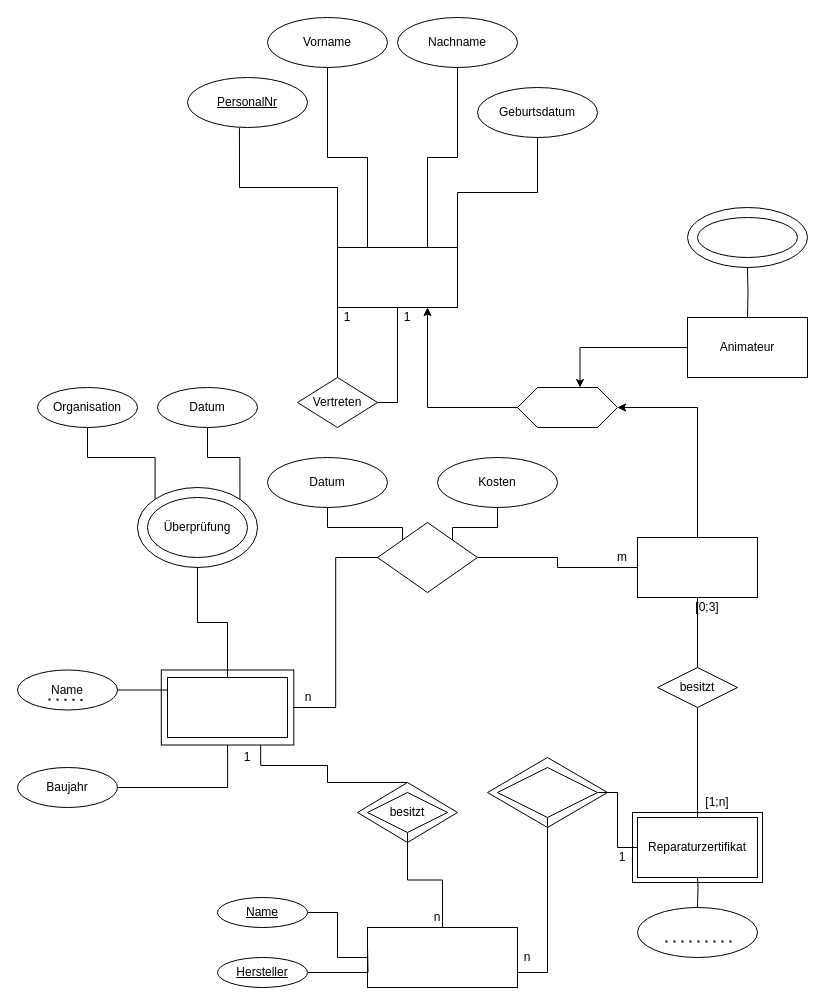
Image size: 825x1005. Some labels were removed from this diagram. Here are the shapes that lost their labels. From the top down, the box of each, then its label:
(696, 216, 798, 258): Rolle
(336, 246, 458, 308): Mitarbeiter
(516, 386, 618, 428): ist ein
(376, 522, 478, 592): Reparatur
(636, 536, 758, 598): Mechaniker
(166, 676, 288, 738): Fahrgeschäft
(496, 766, 598, 818): ausgestellt
(636, 906, 758, 958): Aussteller
(366, 926, 518, 988): Fahrzeuggeschäftstyp
